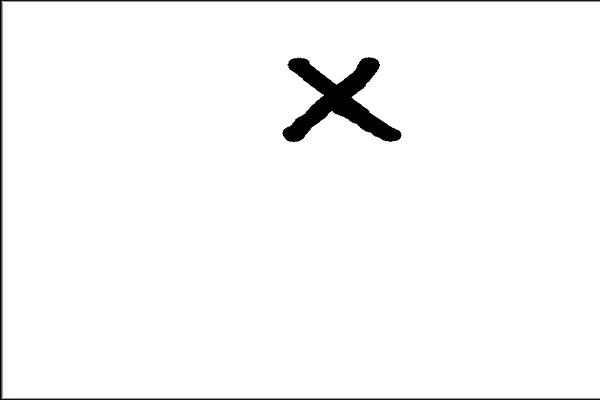X: (258, 39, 431, 154)
